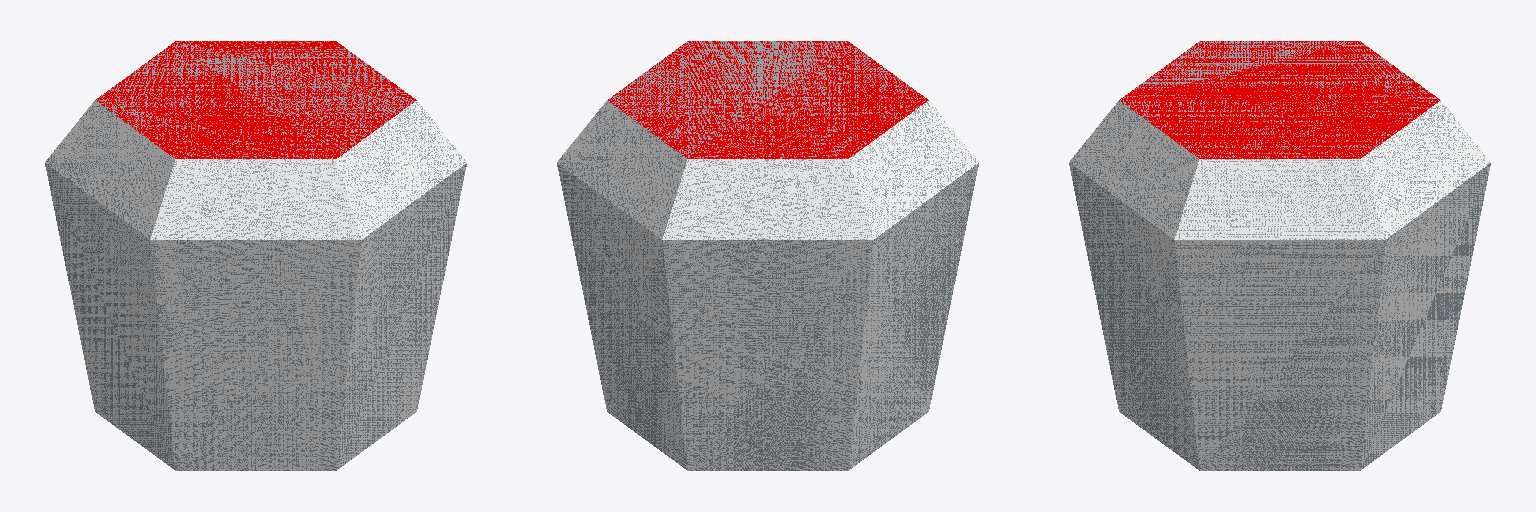
Rendered from Sink_Handle_Hot.obj.
3 views of the same model, side by side, from view 1: azimuth 30°, elevation 25°; view 2: azimuth 150°, elevation 25°; view 3: azimuth 270°, elevation 25° (orthographic).
Visible parts, largest first — view 1: Mesh1 Model; view 2: Mesh1 Model; view 3: Mesh1 Model.
Part boxes in pixels (x1,y1,x2,y2): Mesh1 Model: (45, 41, 466, 470); Mesh1 Model: (557, 41, 978, 470); Mesh1 Model: (1069, 41, 1490, 470).
Size of the model in its own units: 0.0532 by 0.05 by 0.0615.